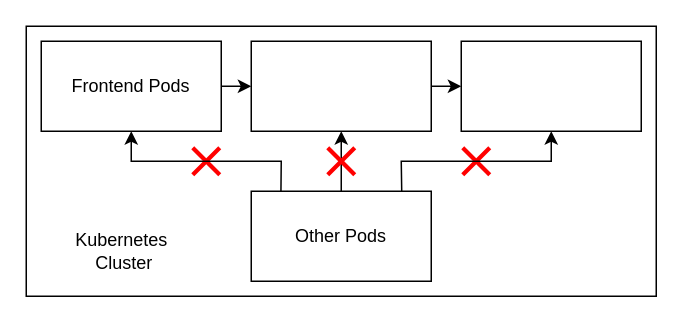
Image size: 683x323. Some labels were removed from this diagram. The centre of each missing label's shape, as x and y in pixels:
"Backend Pods" belongs at (x=340, y=85).
"Database Pods" belongs at (x=550, y=85).
